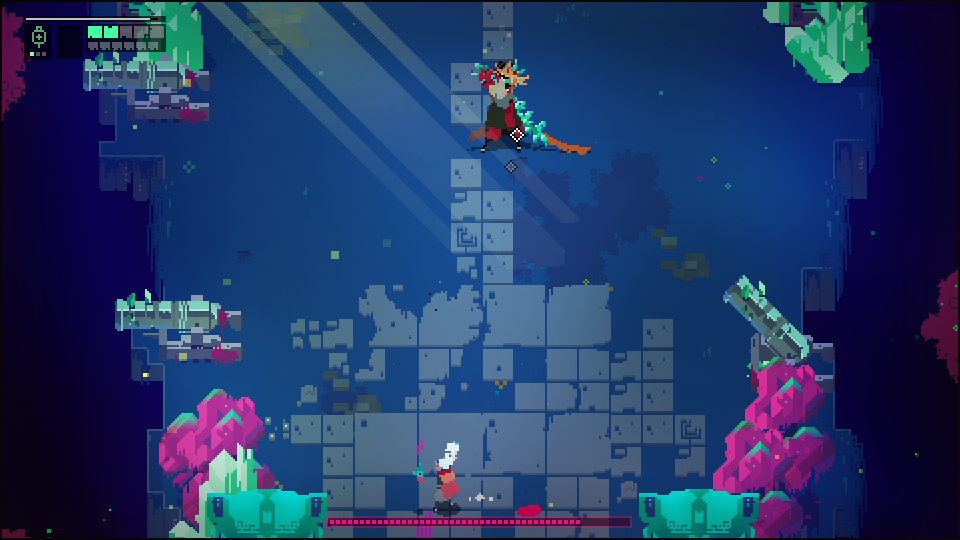hanged_man: (466, 57, 559, 156)
player: (430, 459, 462, 510)
